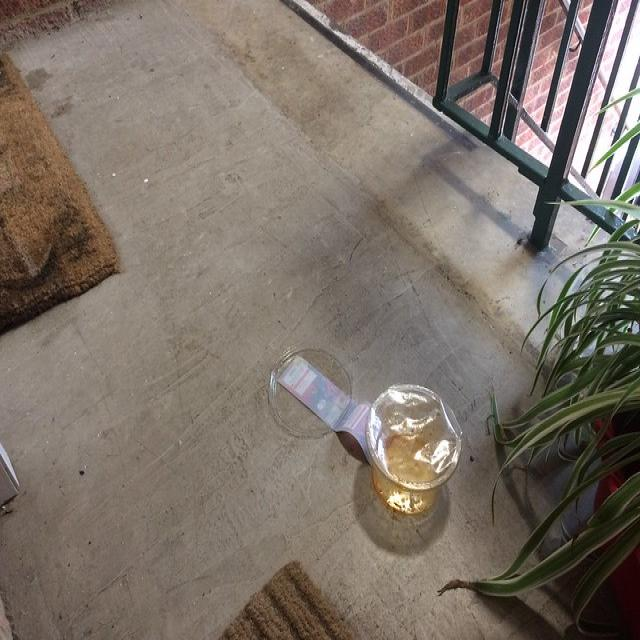Trash: (264, 334, 466, 521)
